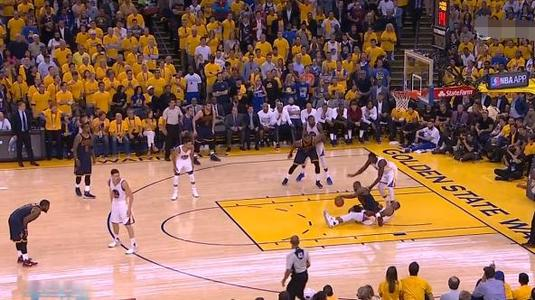10+: (1, 1, 535, 299)
down: (320, 196, 402, 232)
